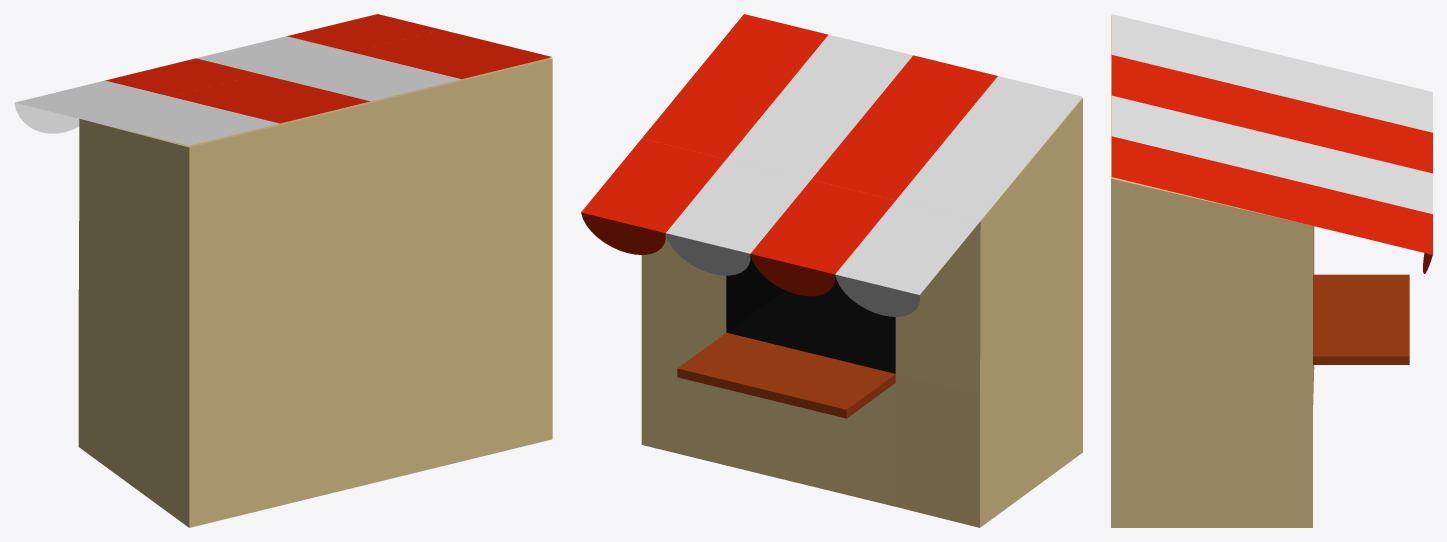
File: Vendor.fbx
3 views of the same model, side by side, from view 1: azimuth 30°, elevation 25°; view 2: azimuth 150°, elevation 25°; view 3: azimuth 270°, elevation 25° (orthographic). The views are drawn at different scales.
Parts seen in each view (by area): view 1: Building, Roof; view 2: Building, Roof; view 3: Building, Roof.
Boxes of the visible parts, box(x1,y1,x2,y2) form: Building: box(78, 58, 552, 527); Roof: box(14, 14, 551, 145); Building: box(641, 98, 1082, 527); Roof: box(581, 14, 1082, 316); Building: box(1111, 15, 1409, 527); Roof: box(1111, 14, 1432, 273).
Bounding box in the file's own units: 200 × 201 × 167.
